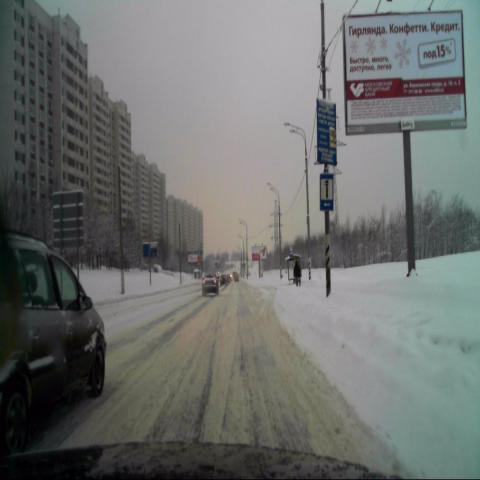7_4: (319, 171, 333, 211)
